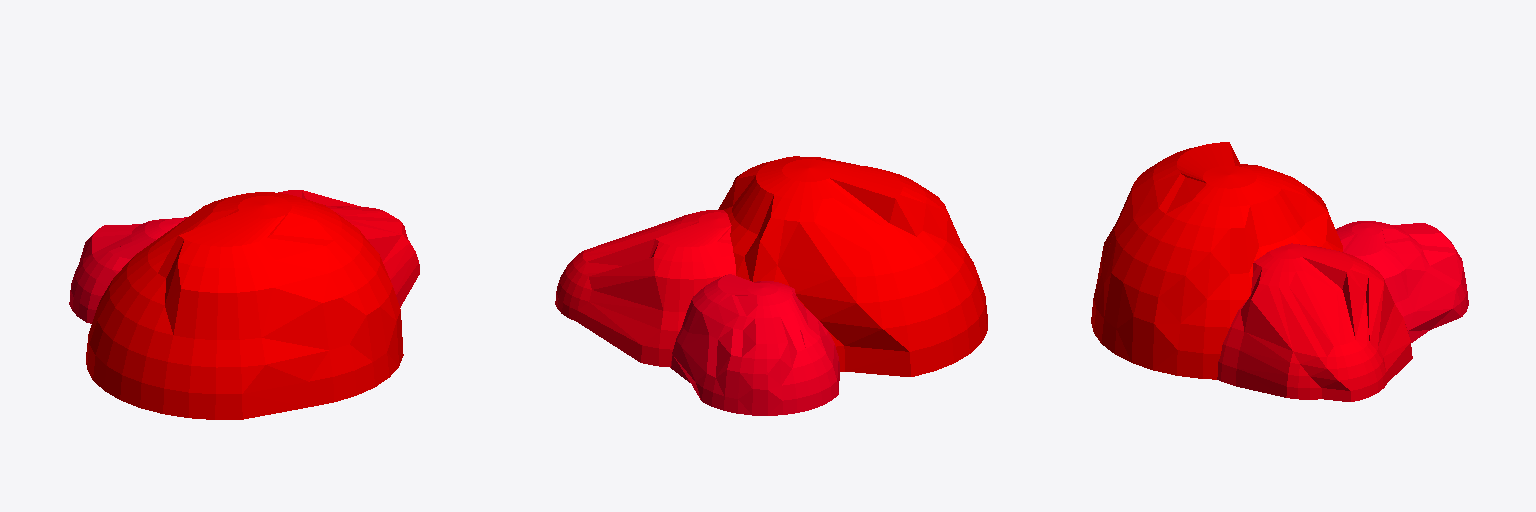
File: rock.obj
3 renders of one model, left to right at view 1: azimuth 30°, elevation 25°; view 2: azimuth 150°, elevation 25°; view 3: azimuth 270°, elevation 25°, orthographic.
Visible parts, largest first — view 1: Sphere.001; view 2: Sphere.001; view 3: Sphere.001.
Part boxes in pixels (x1,y1,x2,y2): Sphere.001: (69,190,419,419); Sphere.001: (555,156,987,415); Sphere.001: (1091,142,1468,401).
Bounding box in the file's own units: 1.13 × 0.4496 × 1.05.